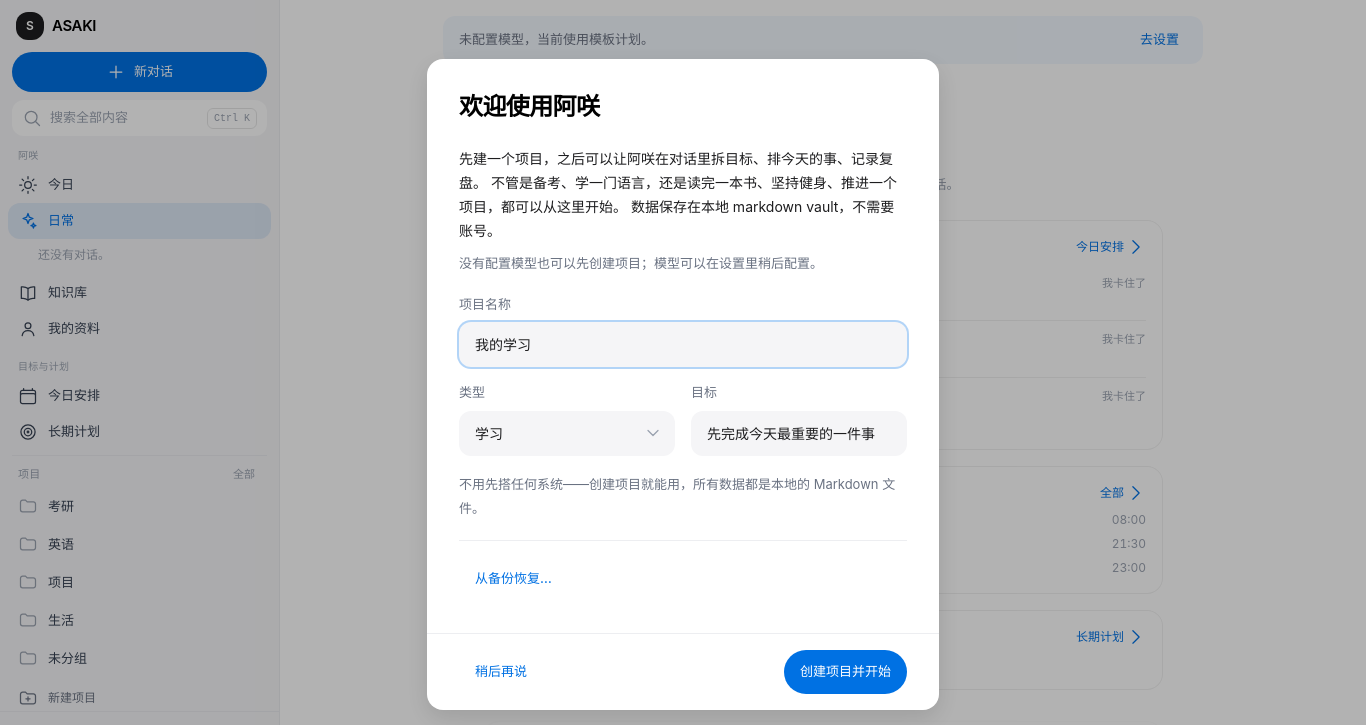
Scenario: plain 稍后再说 without a restore keeps the 1.2.0 behavior (回归 35)
Check: the heading "欢迎使用阿咲" is shown, box [459, 92, 599, 120]
Click the button "稍后再说".
click(501, 672)  # box [459, 650, 543, 694]
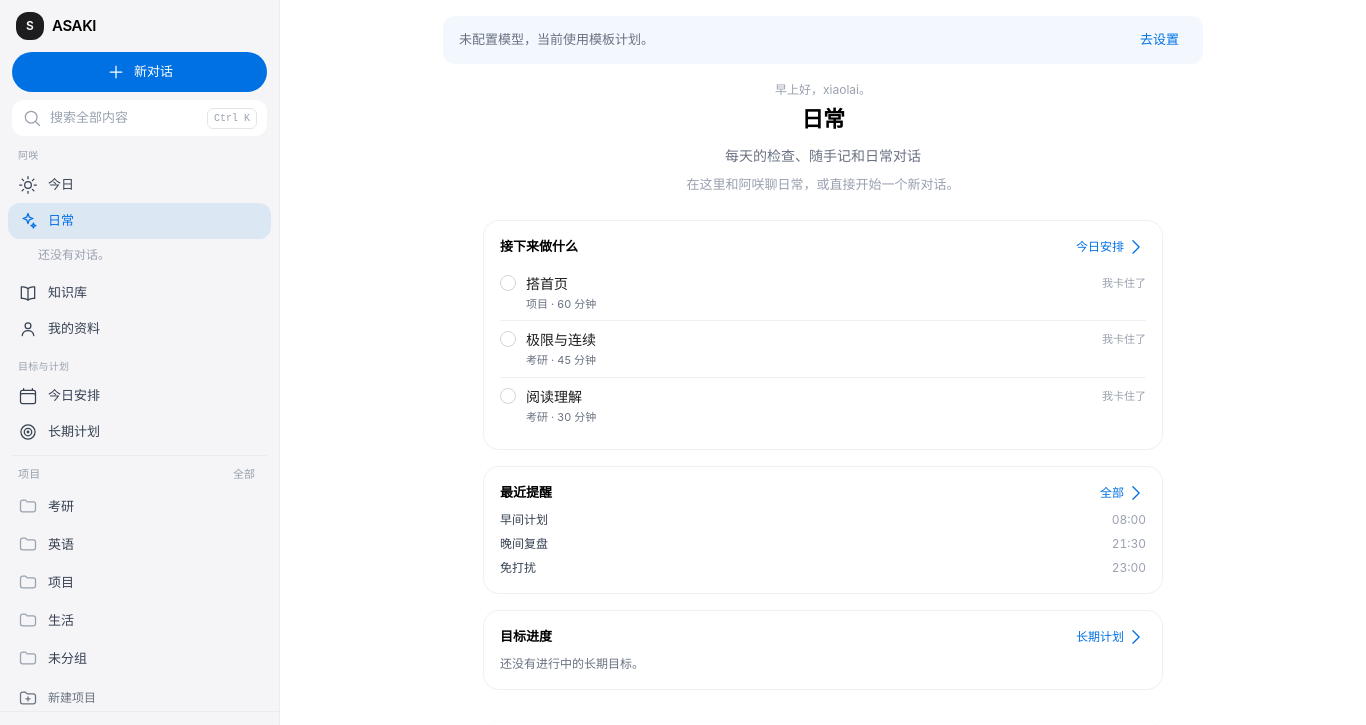
Check: the heading "欢迎使用阿咲" is gone
